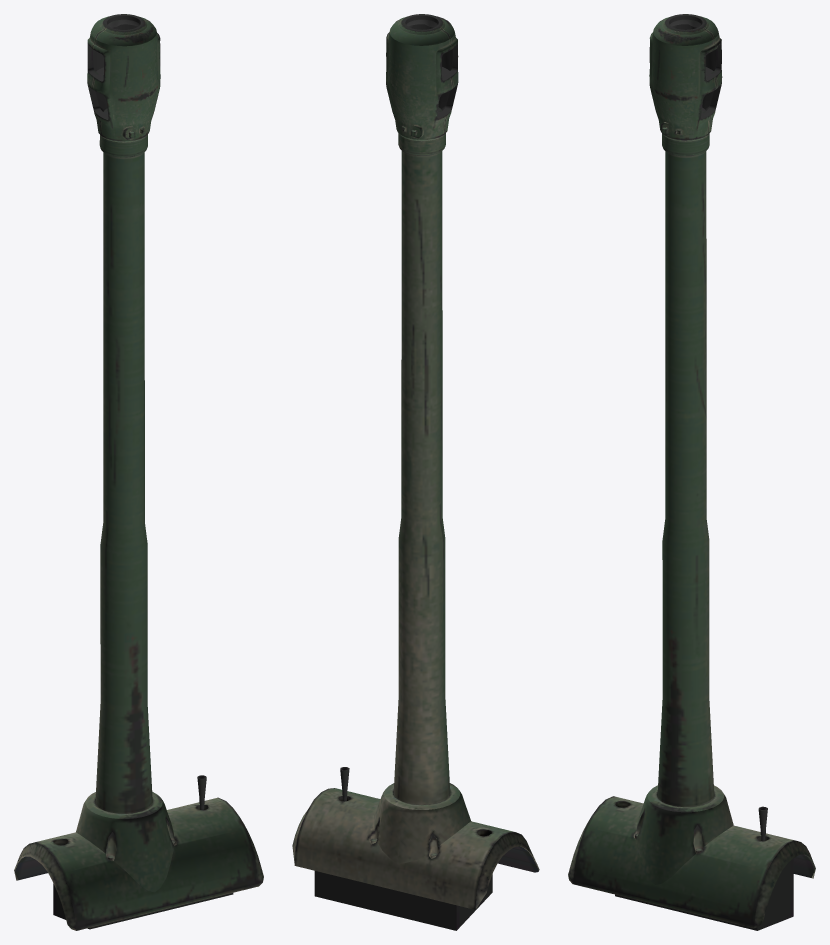
The model's file is Gun_03.glb.
3 renders of one model, left to right at view 1: azimuth 30°, elevation 25°; view 2: azimuth 150°, elevation 25°; view 3: azimuth 330°, elevation 25°, orthographic.
Visible parts, largest first — view 1: set_0_group_0; view 2: set_0_group_0; view 3: set_0_group_0.
Boxes of the visible parts, left/top/right/bottom form: set_0_group_0: left=14, top=14, right=263, bottom=930; set_0_group_0: left=292, top=14, right=539, bottom=930; set_0_group_0: left=568, top=14, right=815, bottom=930.
Size of the model in its own units: 1.02 by 4.43 by 0.5398.
1 material, 1 textured.
